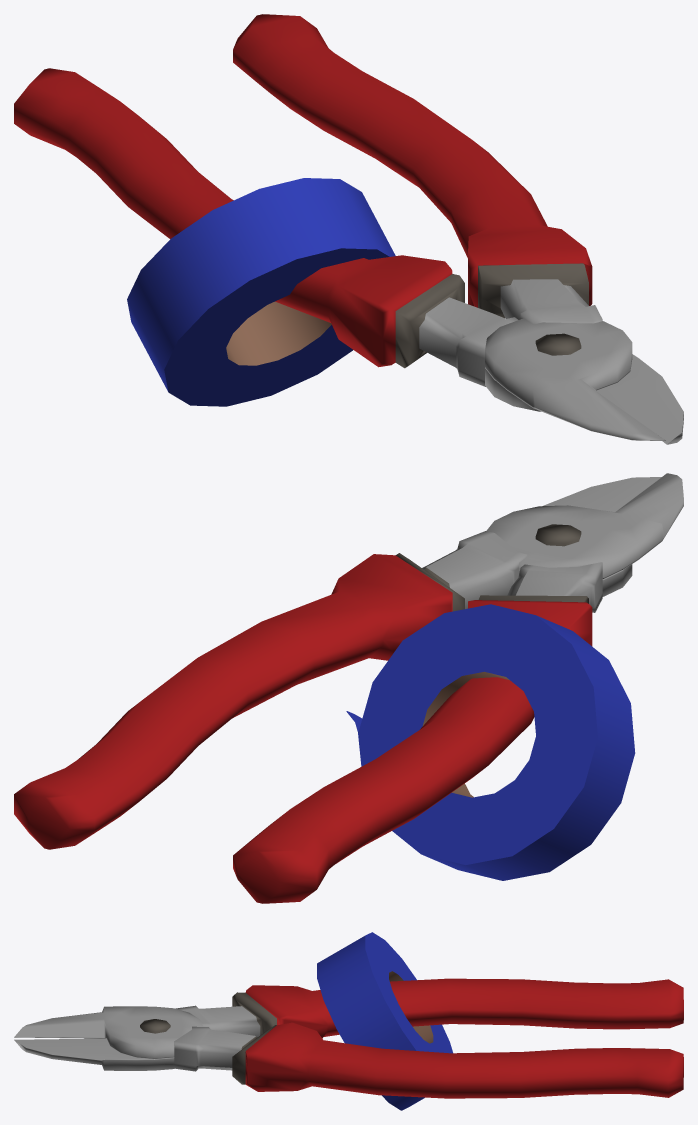
The model's file is wirecutterswithtape.fbx.
3 renders of one model, top to bottom at view 1: azimuth 30°, elevation 25°; view 2: azimuth 150°, elevation 25°; view 3: azimuth 270°, elevation 25°, orthographic. The views are drawn at different scales.
Visible parts, largest first — view 1: Cube, DuctTape, Cube.001; view 2: Cube, DuctTape, Cube.001; view 3: Cube, Cube.001, DuctTape.
Part boxes in pixels (<box>): Cube: <box>233,14,666,441</box>; DuctTape: <box>127,178,395,406</box>; Cube.001: <box>14,68,683,444</box>; Cube: <box>14,473,683,849</box>; DuctTape: <box>346,604,635,880</box>; Cube.001: <box>233,477,661,903</box>; Cube: <box>14,1006,683,1098</box>; Cube.001: <box>14,978,683,1070</box>; DuctTape: <box>317,932,452,1110</box>.
Size of the model in its own units: 10.59 by 6.42 by 24.68.
